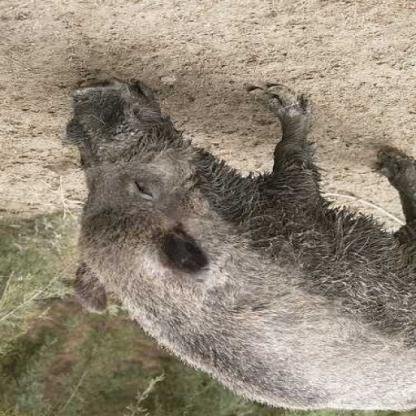boar: (27, 51, 415, 416)
